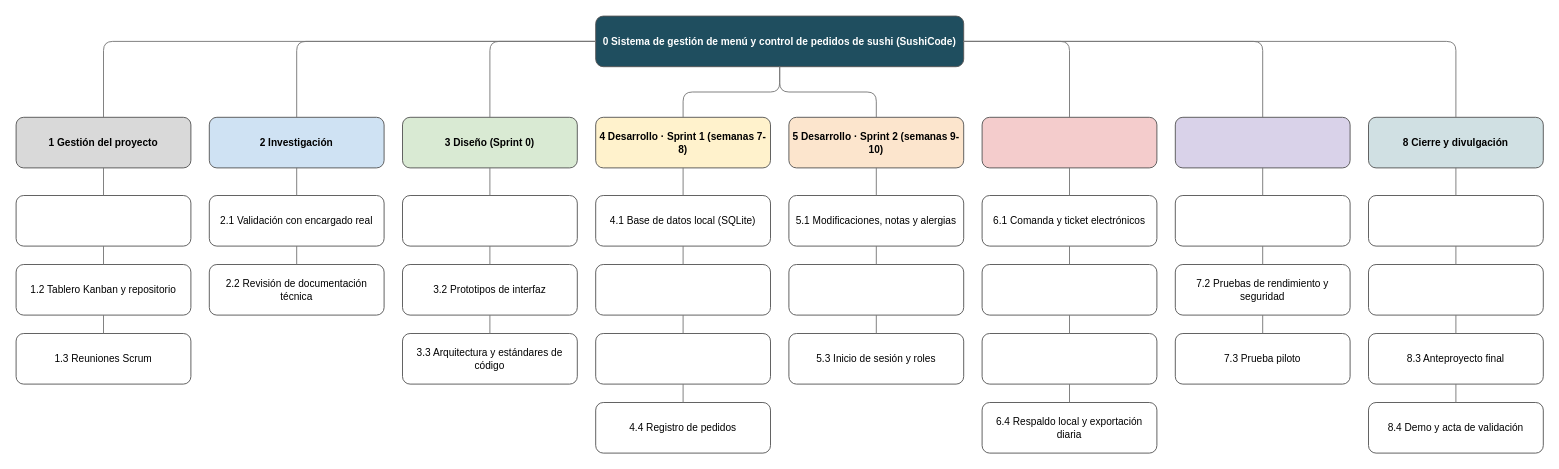
Some shapes in this 1559 by 469 pixel diagram are drawn without their labels. Each missing label, with the centre of its shape:
"1.1 Planeación y documentación del proyecto" goes at point 103,220.
"3.1 Modelo entidad-relación" goes at point 489,220.
"4.2 Administración del menú" goes at point 682,289.
"4.3 Cambio de precio en un solo lugar" goes at point 682,358.
"5.2 Envío de comanda a cocina" goes at point 876,289.
"6 Desarrollo · Sprint 3 (semanas 11-12)" goes at point 1069,142.
"6.2 Estados del pedido" goes at point 1069,289.
"6.3 Modificar un pedido enviado" goes at point 1069,358.
"7 Pruebas y piloto" goes at point 1262,142.
"7.1 Pruebas funcionales" goes at point 1262,220.
"8.1 Corrección de errores finales" goes at point 1455,220.
"8.2 Guía de uso de una página" goes at point 1455,289.
